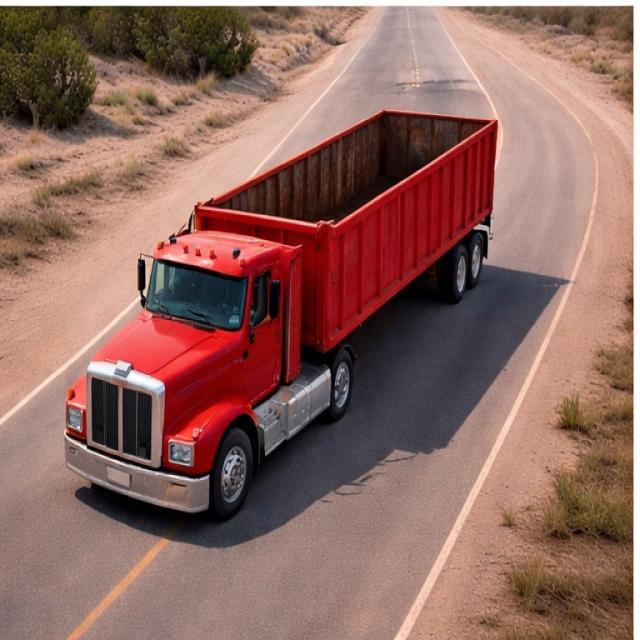Box: (194, 96, 505, 225)
Truck: (59, 65, 534, 525)
